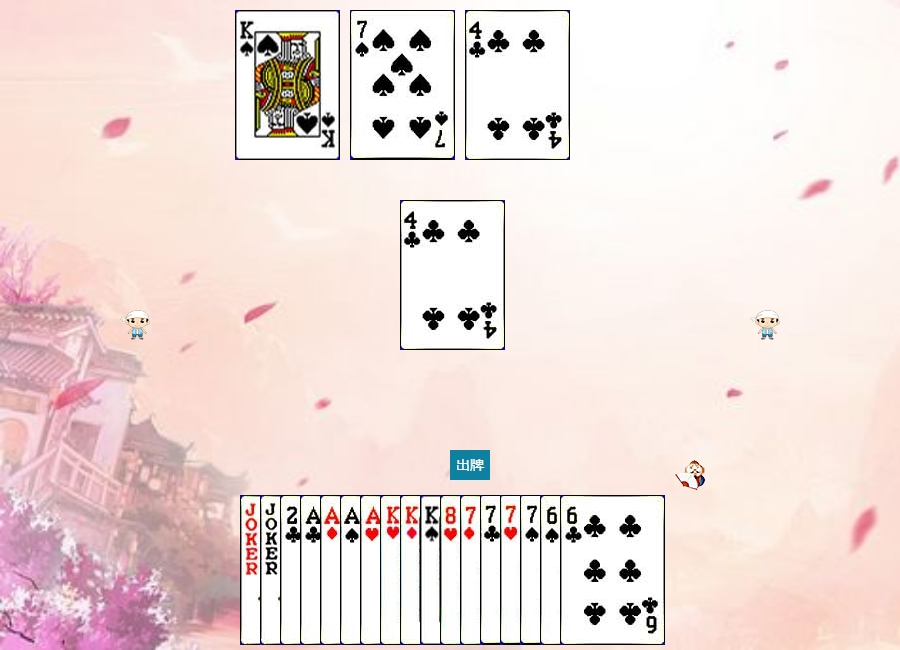13~1: (400, 495, 505, 645)
13~3: (380, 495, 485, 645)
13~4: (235, 10, 340, 160), (420, 495, 525, 645)
14~1: (320, 495, 425, 645)
14~2: (300, 495, 405, 645)
14~3: (360, 495, 465, 645)
14~4: (340, 495, 445, 645)
15~2: (280, 495, 385, 645)
17~3: (260, 495, 365, 645)
18~4: (240, 495, 345, 645)
4~2: (465, 10, 570, 160), (400, 200, 505, 350)
6~2: (560, 495, 665, 645)
6~4: (540, 495, 645, 645)
7~1: (460, 495, 565, 645)
7~2: (480, 495, 585, 645)
7~3: (500, 495, 605, 645)
7~4: (350, 10, 455, 160), (520, 495, 625, 645)
8~3: (440, 495, 545, 645)
